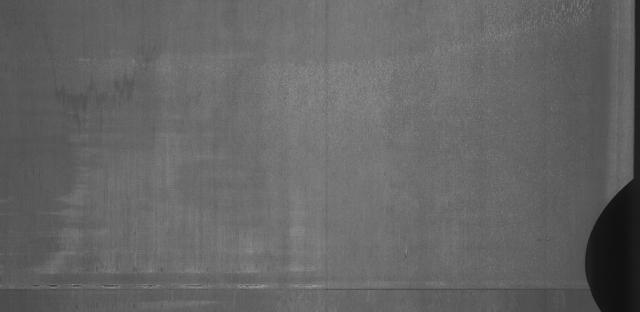welding_line: (2, 277, 607, 298)
